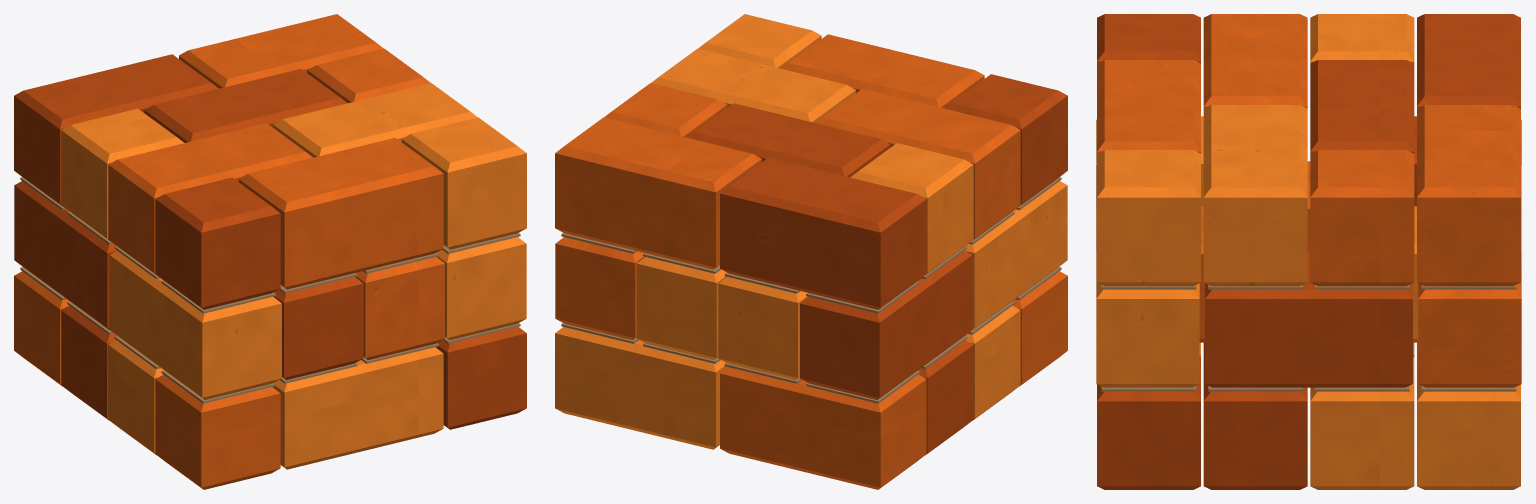
The model's file is brick-block.glb.
3 renders of one model, left to right at view 1: azimuth 30°, elevation 25°; view 2: azimuth 150°, elevation 25°; view 3: azimuth 270°, elevation 25°, orthographic. The views are drawn at different scales.
Visible parts, largest first — view 1: Brick_003, Brick_002, Brick_001, Brick_006, Brick_012, Brick_009, Brick_039, Brick_015, Brick_027, Brick_004, Brick_010, Brick_011 (+19 smaller); view 2: Brick_039, Brick_037, Brick_038, Brick_045, Brick_048, Brick_042, Brick_015, Brick_003, Brick_027, Brick_043, Brick_044, Brick_047 (+19 smaller); view 3: Brick_024, Brick_048, Brick_036, Brick_012, Brick_022, Brick_034, Brick_023, Brick_035, Brick_046, Brick_010, Brick_011, Brick_047 (+13 smaller).
Part boxes in pixels (x1,y1,x2,y2): Brick_003: (155, 177, 280, 309); Brick_002: (155, 280, 281, 399); Brick_001: (155, 374, 280, 489); Brick_006: (238, 155, 363, 289); Brick_012: (401, 117, 526, 249); Brick_009: (322, 138, 443, 271); Brick_039: (14, 72, 141, 206); Brick_015: (108, 141, 235, 274); Brick_027: (61, 108, 184, 240); Brick_004: (273, 362, 363, 469); Brick_010: (435, 327, 526, 429); Brick_011: (437, 237, 526, 340); Brick_039: (799, 175, 926, 309); Brick_037: (799, 374, 926, 489); Brick_038: (800, 280, 926, 399); Brick_045: (636, 136, 761, 269); Brick_048: (555, 117, 678, 251); Brick_042: (720, 157, 841, 291); Brick_015: (893, 106, 1020, 240); Brick_003: (945, 74, 1067, 206); Brick_027: (850, 143, 973, 274); Brick_043: (636, 342, 727, 449); Brick_044: (637, 257, 726, 359); Brick_047: (555, 237, 644, 340); Brick_024: (1203, 145, 1307, 286); Brick_048: (1417, 145, 1520, 286); Brick_036: (1310, 150, 1414, 286); Brick_012: (1097, 150, 1200, 286); Brick_022: (1203, 355, 1307, 489); Brick_034: (1310, 357, 1414, 489); Brick_023: (1205, 251, 1308, 387); Brick_035: (1309, 251, 1412, 387); Brick_046: (1417, 355, 1520, 489); Brick_010: (1097, 357, 1200, 489); Brick_011: (1096, 255, 1199, 387); Brick_047: (1418, 255, 1521, 387).
Size of the model in its own units: 0.998 by 0.7829 by 0.998.
Materials: 4 (3 with a texture image).
